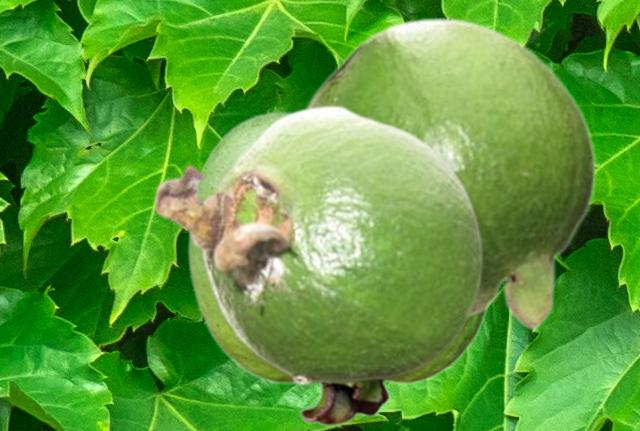guava: (187, 108, 491, 426), (152, 103, 485, 385), (303, 15, 596, 331)
